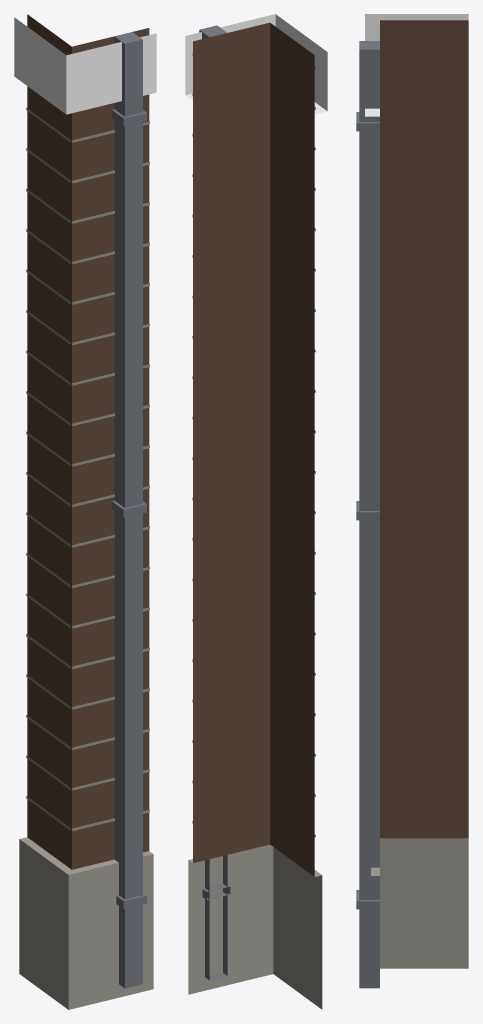
Rendered from base-c1_close.fbx.
The picture shows the model from 3 angles, left to right: view 1: azimuth 30°, elevation 25°; view 2: azimuth 210°, elevation 25°; view 3: azimuth 270°, elevation 25°; orthographic projection.
Visible parts, largest first — view 1: a2000s3/800/base-c1_close; view 2: a2000s3/800/base-c1_close; view 3: a2000s3/800/base-c1_close.
Part boxes in pixels (box(x1,y1,x2,y2)): a2000s3/800/base-c1_close: box(14, 14, 156, 1009); a2000s3/800/base-c1_close: box(185, 14, 327, 1009); a2000s3/800/base-c1_close: box(356, 14, 468, 988).
Size of the model in its own units: 0.35 by 3.55 by 0.38.
